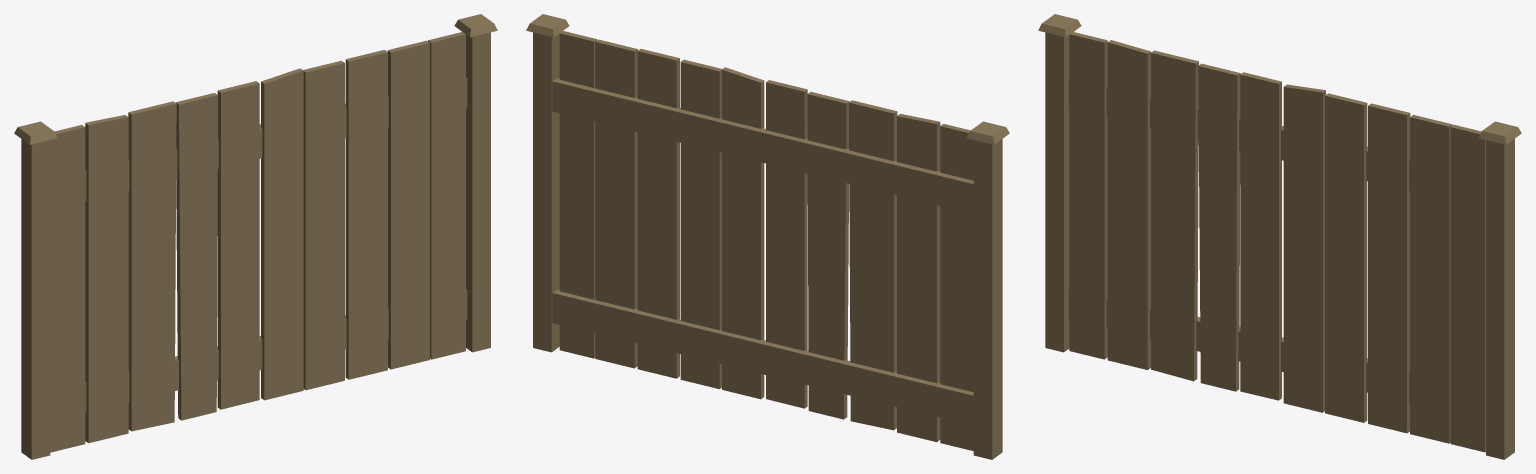
Rendered from Fence.fbx.
3 renders of one model, left to right at view 1: azimuth 30°, elevation 25°; view 2: azimuth 150°, elevation 25°; view 3: azimuth 330°, elevation 25°, orthographic.
Visible parts, largest first — view 1: pCube154; view 2: pCube154; view 3: pCube154.
Part boxes in pixels (bbox=[...]): pCube154: bbox=[14, 14, 497, 459]; pCube154: bbox=[526, 14, 1009, 459]; pCube154: bbox=[1038, 14, 1521, 459].
Size of the model in its own units: 532 by 353 by 30.95.
